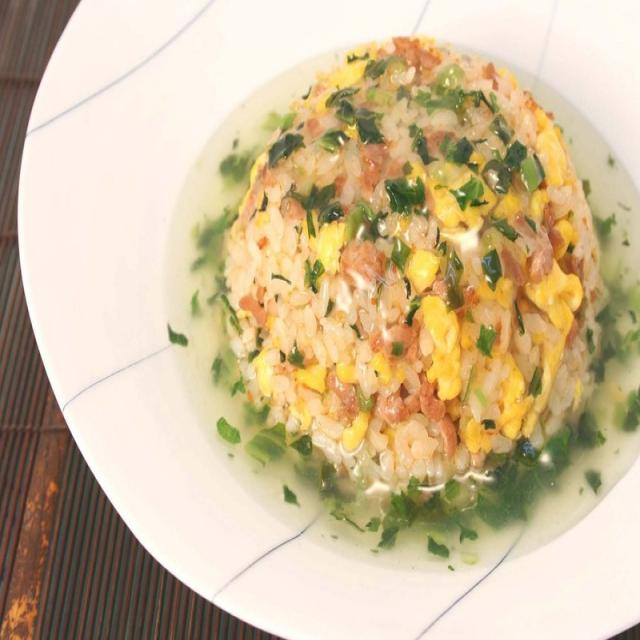米饭主食: (16, 0, 640, 640)
